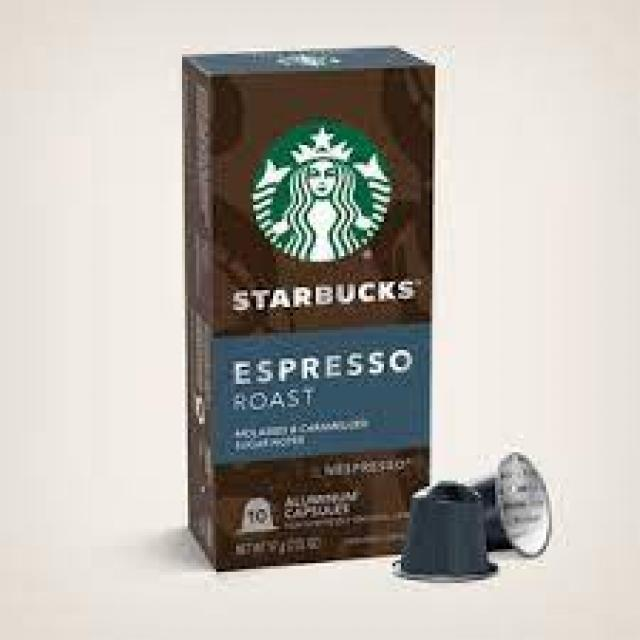Coffee: (182, 46, 438, 572)
